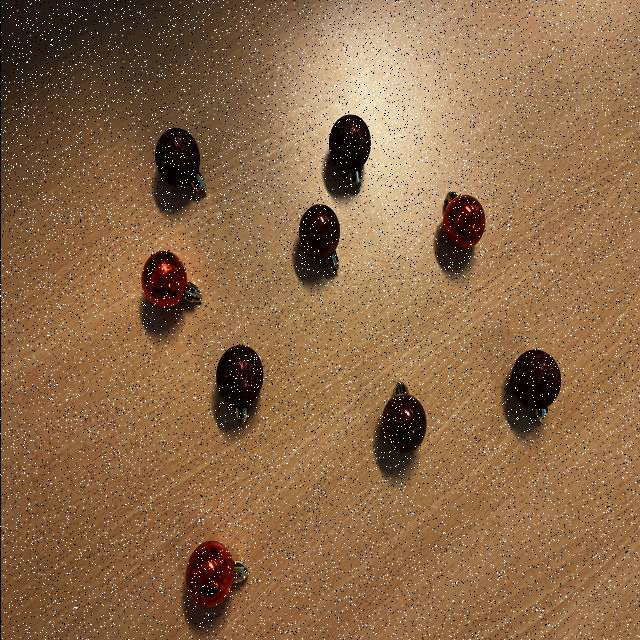glitter-bauble: (211, 335, 267, 429), (152, 114, 210, 202), (508, 343, 562, 429), (322, 107, 372, 195), (215, 345, 262, 424), (510, 349, 560, 423), (154, 128, 205, 193), (328, 114, 370, 191)
glossy-bauble: (180, 533, 250, 615), (136, 242, 202, 318), (184, 541, 247, 608), (436, 182, 488, 256), (140, 250, 201, 309), (442, 192, 484, 250)
wine-red-bauble: (374, 376, 428, 458), (294, 199, 344, 279), (380, 381, 426, 454), (297, 204, 339, 274)
